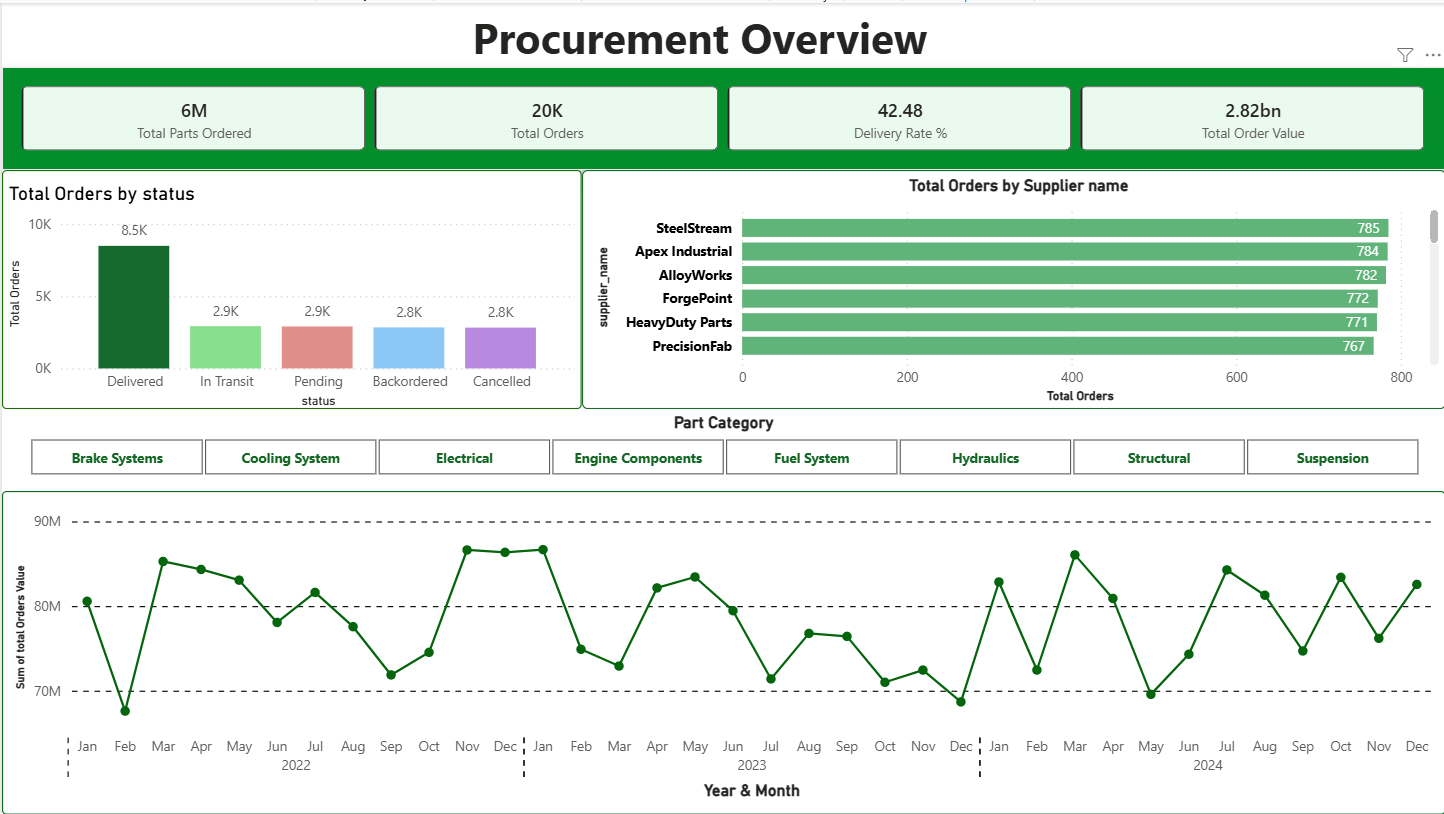

Layout of this report page (visuals, bound fields, positions):
{"tool":"powerbi","page":{"name":"Procurement Overview","canvas":[1280,720],"ordinal":0},"visuals":[{"type":"textbox","box":[210.1,0,817.4,63.6],"z":0},{"type":"cardVisual","fields":{"Data":["_measures.Total Parts Ordered","_measures.Total Orders","_measures.Delivery Rate %","_measures.Total Order Value"]},"box":[0,57.1,1280,91.2],"z":1000},{"type":"clusteredColumnChart","fields":{"Category":["orders_clean.status"],"Y":["_measures.Total Orders"]},"box":[0,148.4,514.2,212],"z":2000},{"type":"barChart","title":"Total Orders by Supplier name","fields":{"Category":["suppliers_clean.supplier_name"],"Y":["_measures.Total Orders"]},"box":[514.2,148.4,765.8,212],"z":3000},{"type":"lineChart","title":"Sum of Total Order Value by Year and Month","fields":{"Y":["Sum(orders_clean.total_order_value)"],"Category":["Date_Table.Year","Date_Table.Month Name"]},"box":[0,433.1,1280,286.6],"z":4000},{"type":"slicer","title":"Part Category","fields":{"Values":["orders_clean.Part Category"]},"box":[0,360.3,1280,65.4],"z":5000}]}

Visuals, with their boxes in screenshot pixels (x1, y1, x2, y2), scaled from the page's 1280x720 canvas onto the 1444x814 screenshot:
textbox: {"x1": 237, "y1": 0, "x2": 1159, "y2": 72}
cardVisual - _measures.Total Parts Ordered x _measures.Total Orders: {"x1": 0, "y1": 65, "x2": 1443, "y2": 168}
clusteredColumnChart - orders_clean.status x _measures.Total Orders: {"x1": 0, "y1": 168, "x2": 580, "y2": 407}
"Total Orders by Supplier name" barChart: {"x1": 580, "y1": 168, "x2": 1443, "y2": 407}
"Sum of Total Order Value by Year and Month" lineChart: {"x1": 0, "y1": 490, "x2": 1443, "y2": 813}
"Part Category" slicer: {"x1": 0, "y1": 407, "x2": 1443, "y2": 481}
